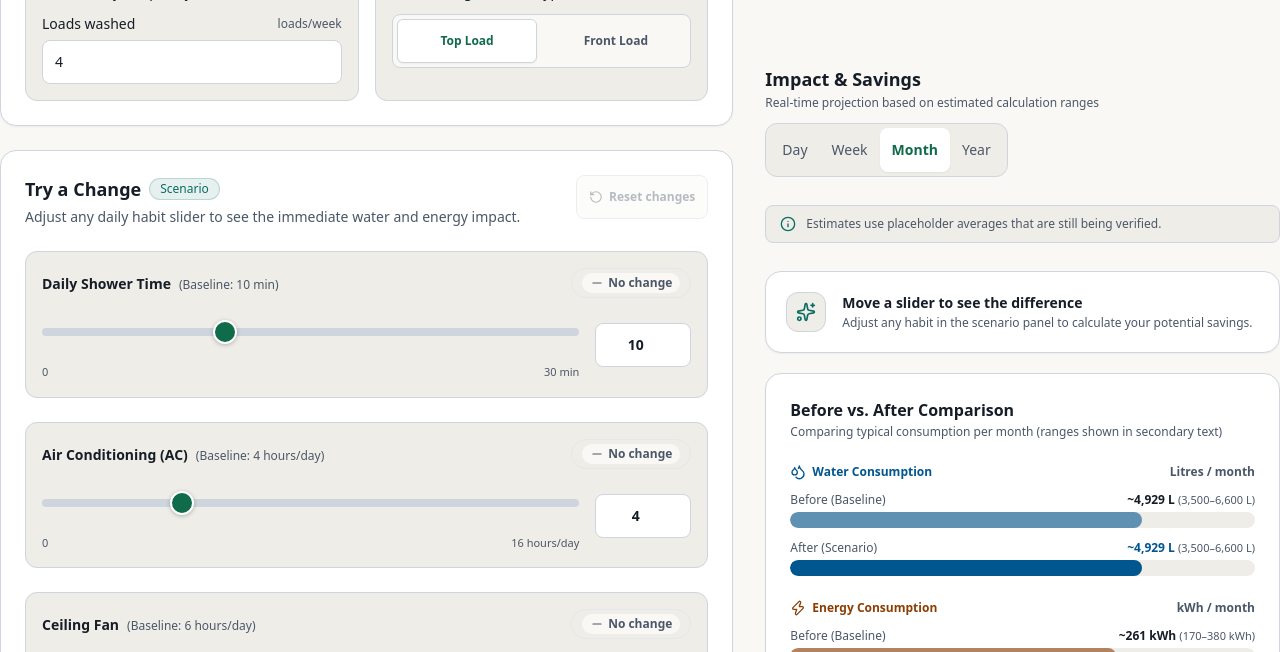
it: Simulator Component › handles mixed changes correctly (shower 10->0 with AC 4->10)
The width and height of the screenshot is (1280, 652).
(page scrolled)
Replace the text in the number field named "daily shower time numeric input" with "0" at [643, 345], box left=595, top=323, right=691, bottom=367
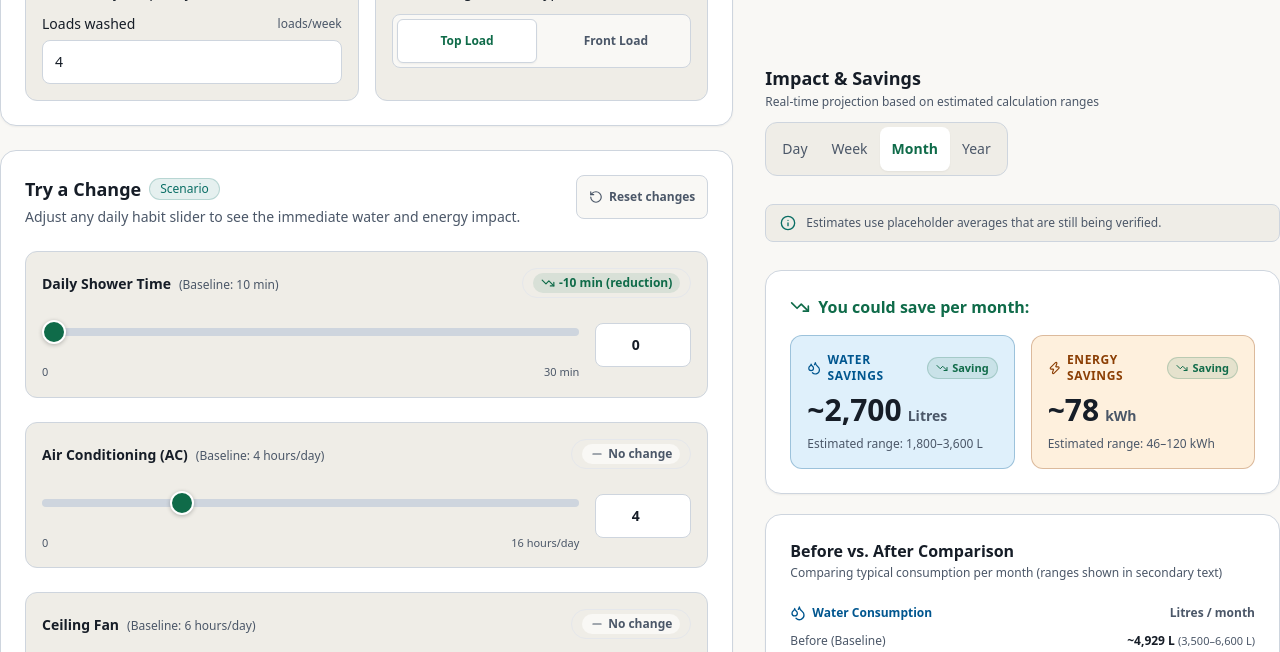
Replace the text in the number field named "air conditioning (ac) numeric input" with "10" at [643, 516], box left=595, top=494, right=691, bottom=538
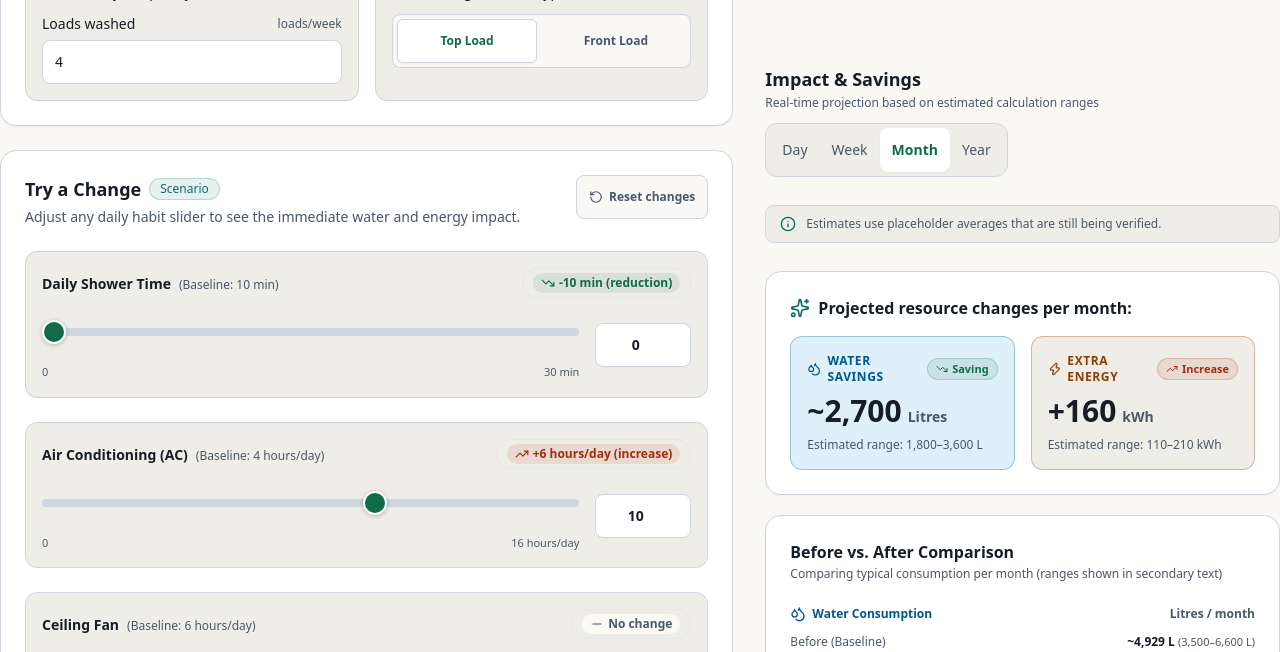
Check: the text "~2,700" is shown, box left=807, top=393, right=902, bottom=429
Check: the text "Projected resource changes per month:" is shown, box left=818, top=296, right=1132, bottom=320
Check: the text "+160" is shown, box left=1048, top=393, right=1116, bottom=429
